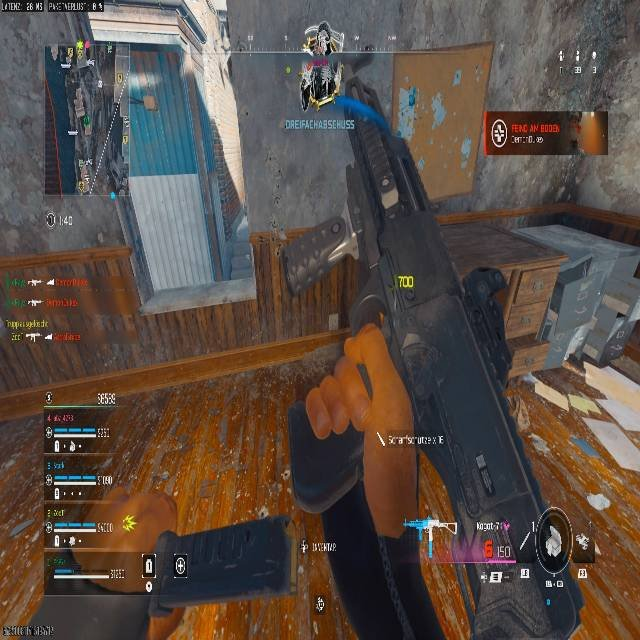head: (301, 22, 330, 51)
player: (299, 22, 342, 106)
